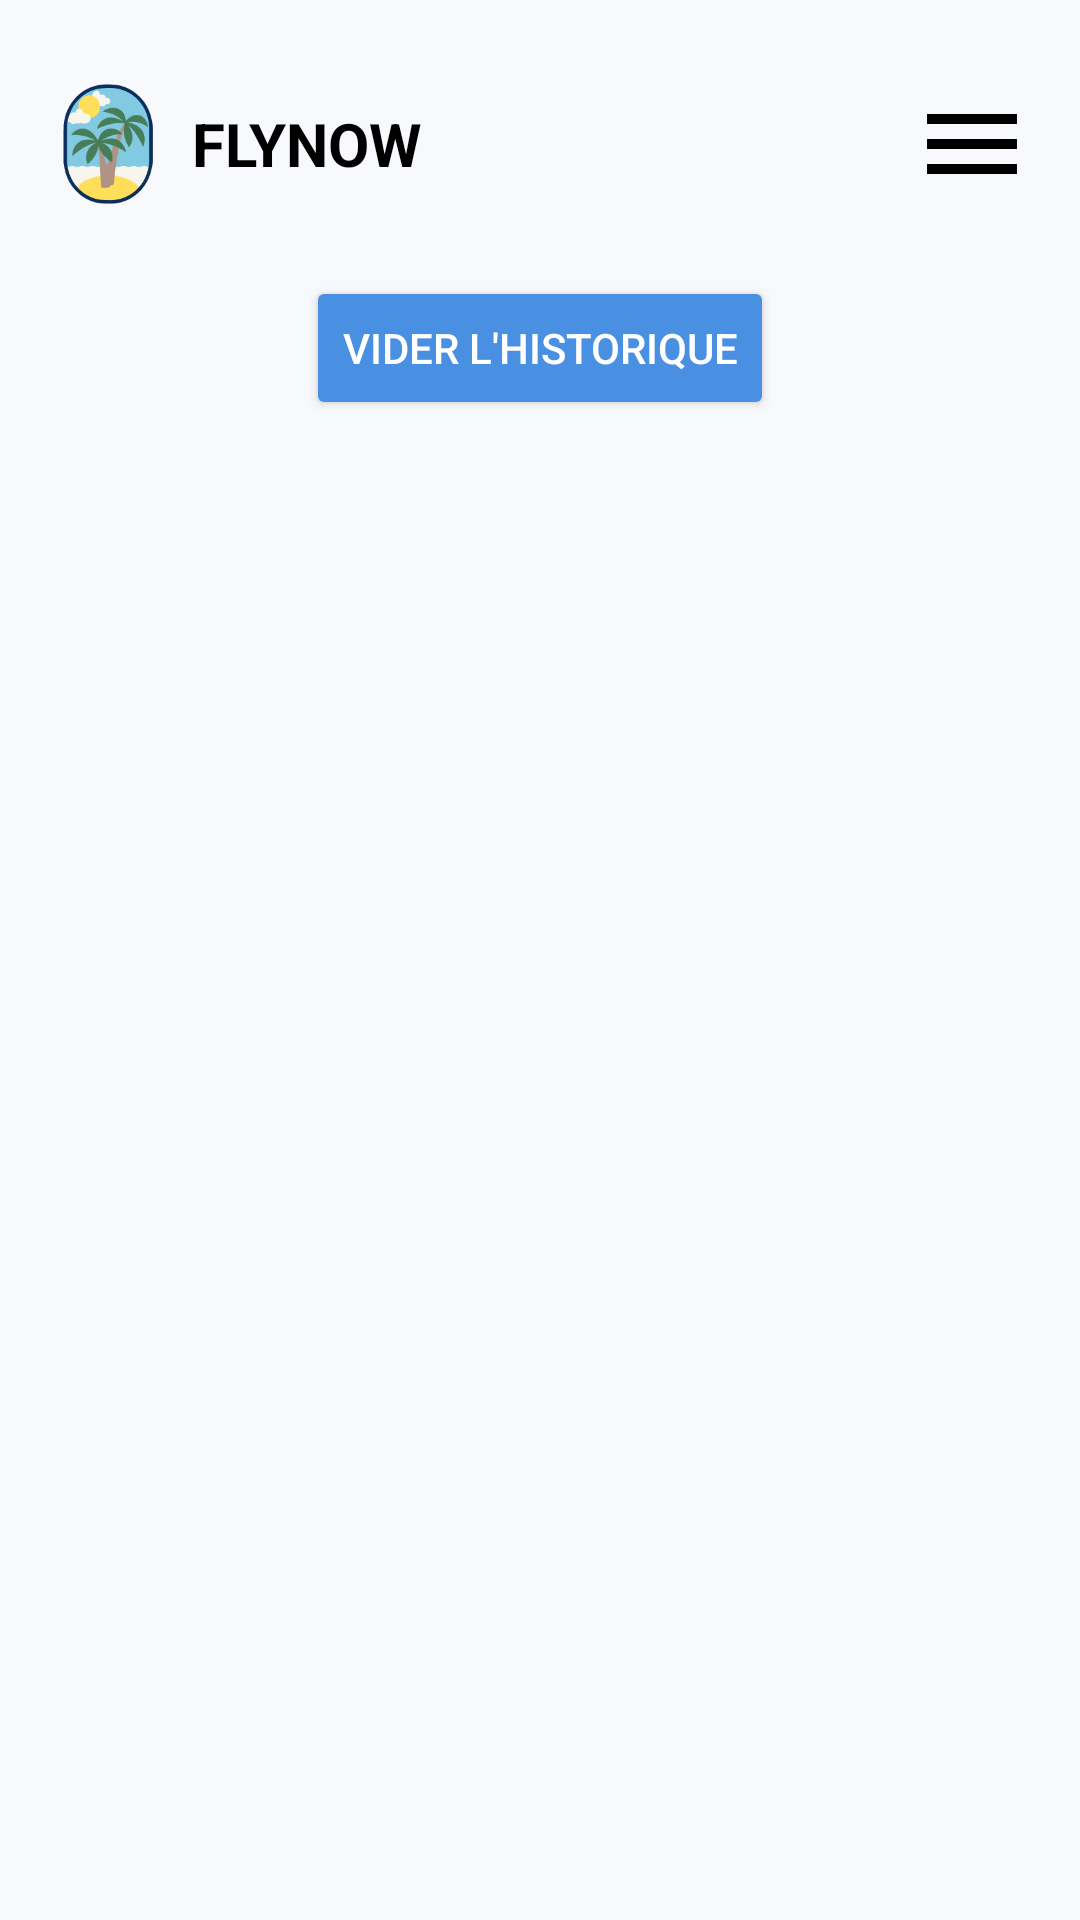

Icons on this 1080*1920 Android screen, each with its box as detection(x1, y1, x2, y2):
Menu: detection(927, 114, 1017, 174)
